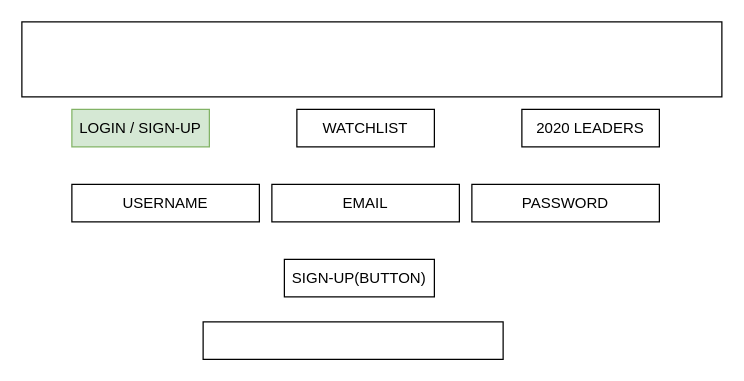
Image size: 744x381. Some labels were removed from this diagram. The box of each missing label's shape, as (x1, y1, x2, y2) in pixels:
ALREADY A USER? LOG-IN HERE (link): (202, 321, 503, 359)
POLITICAL BREAKDOWN: (21, 21, 722, 97)
